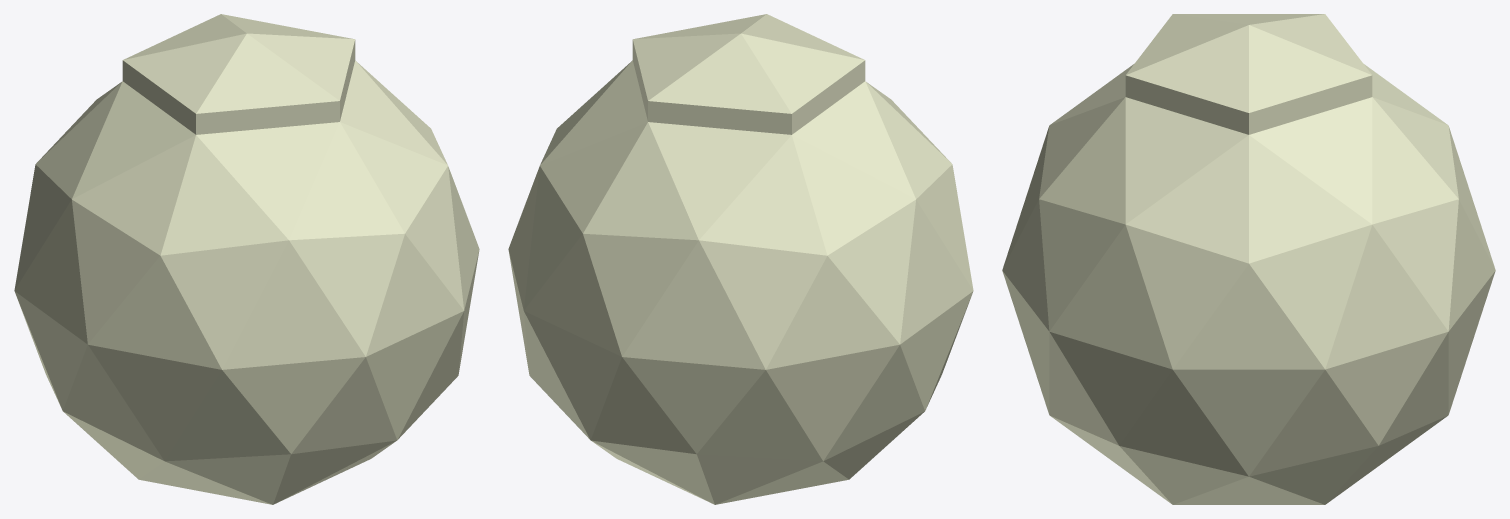
3 views of the same model, side by side, from view 1: azimuth 30°, elevation 25°; view 2: azimuth 150°, elevation 25°; view 3: azimuth 270°, elevation 25° (orthographic). The views are drawn at different scales.
Visible parts, largest first — view 1: Icosphere; view 2: Icosphere; view 3: Icosphere.
Boxes of the visible parts, x1,y1,x2,y2 form: Icosphere: (14, 14, 479, 504); Icosphere: (508, 14, 973, 504); Icosphere: (1002, 14, 1495, 504).
Bounding box in the file's own units: 1.9 × 2.1 × 2.
